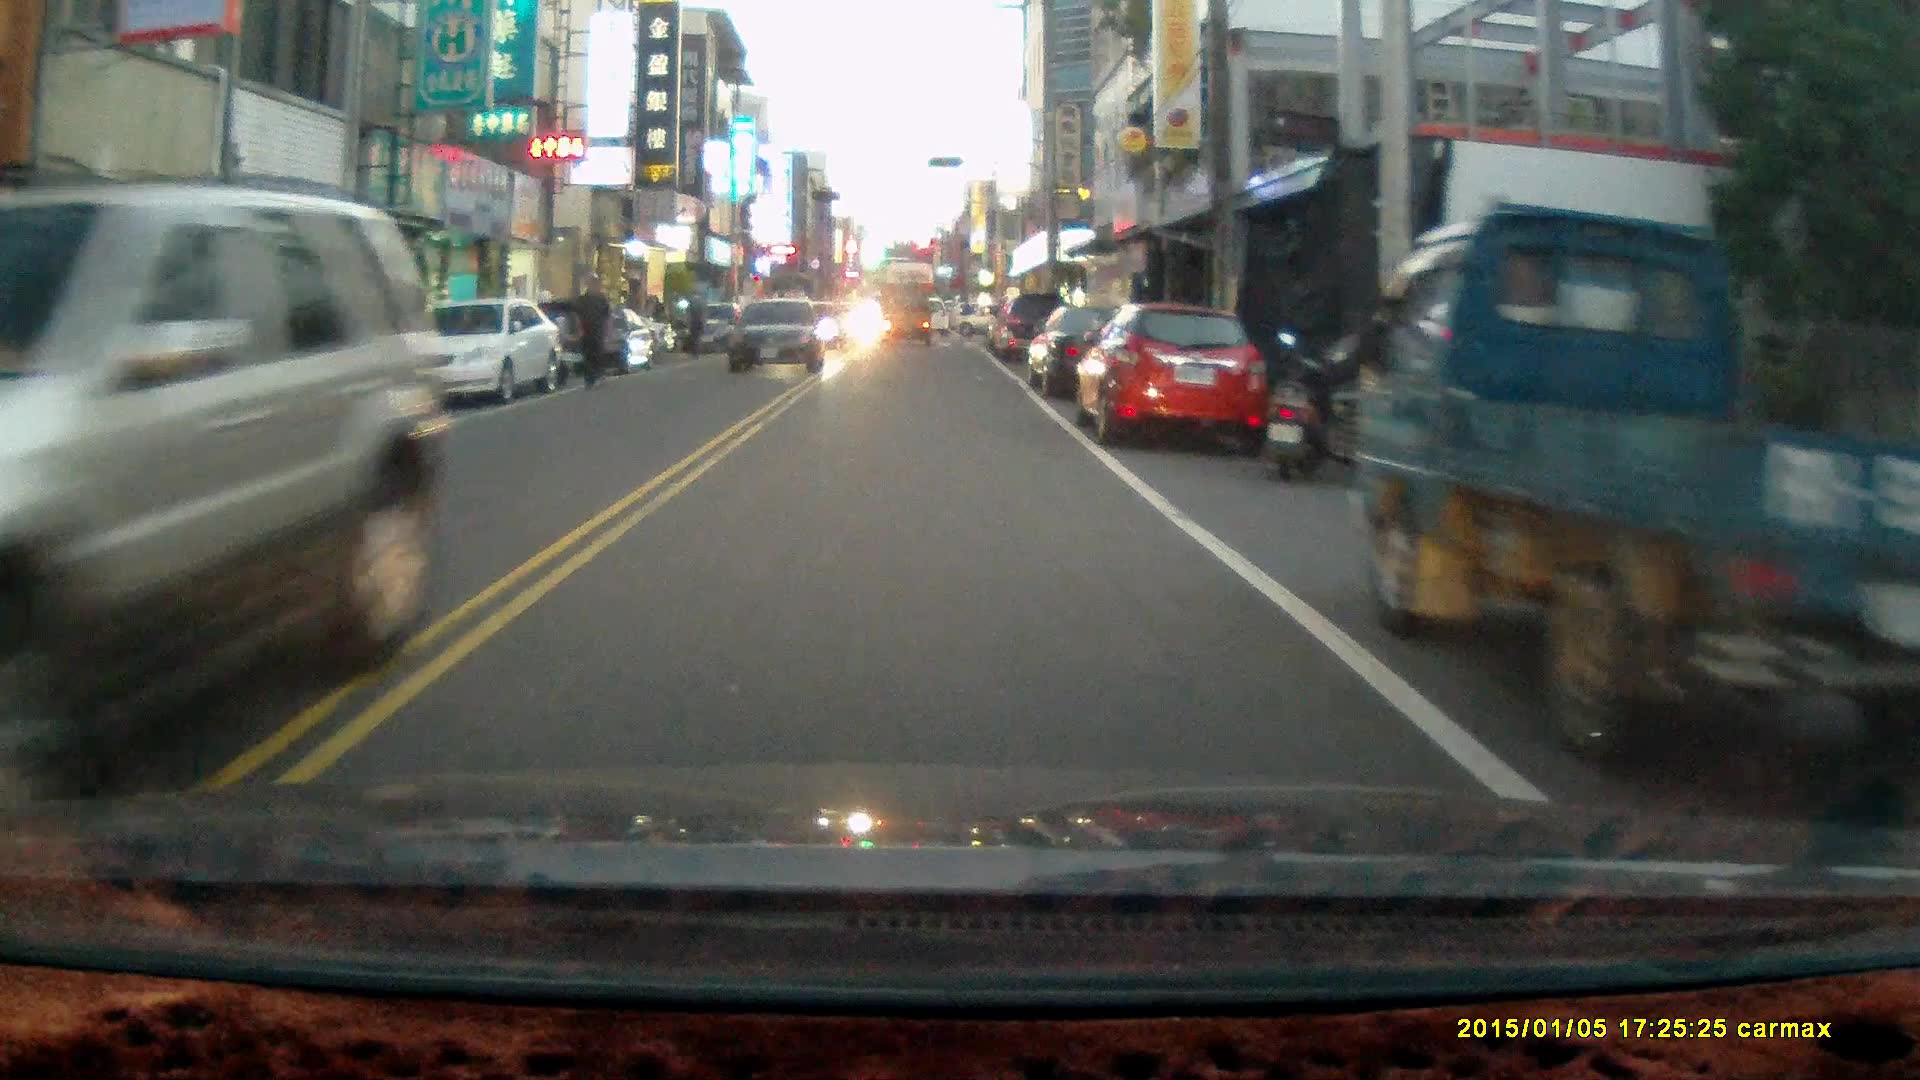pedestrian: (570, 270, 610, 395), (682, 289, 707, 355)
vehicle: (1349, 203, 1920, 759), (1, 185, 441, 801), (1077, 303, 1268, 453), (398, 294, 560, 405), (1028, 292, 1183, 403), (730, 295, 827, 376), (876, 283, 936, 349)
